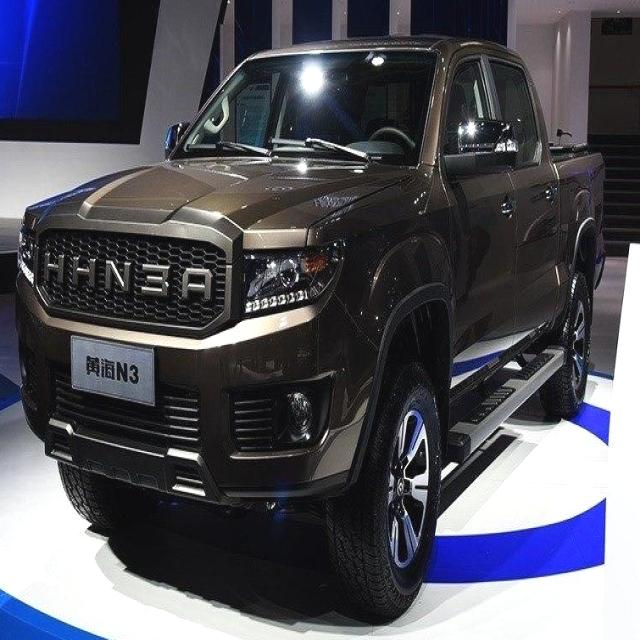CMT: (32, 52, 593, 530)
